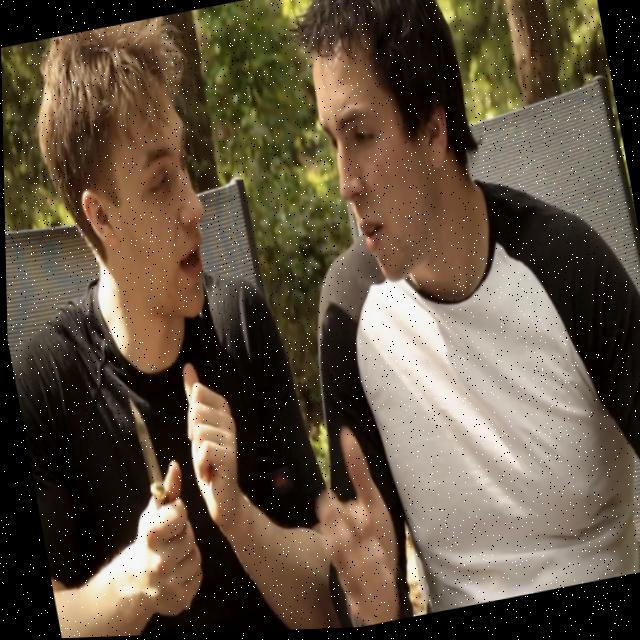knife: (114, 392, 175, 512)
